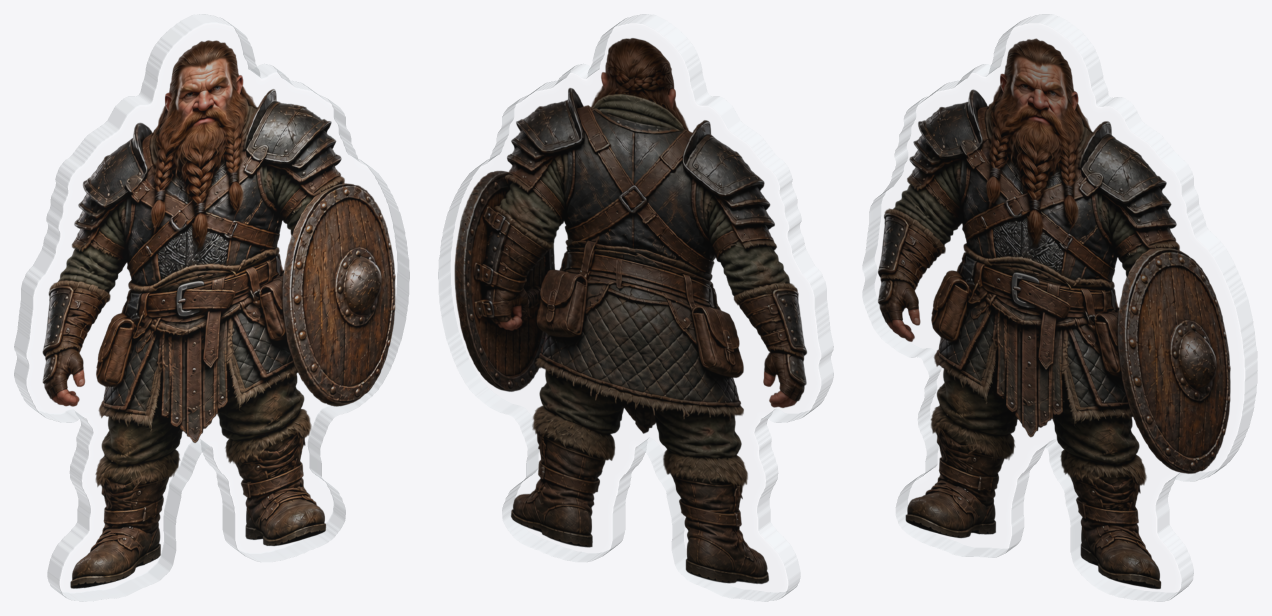
File: brom-shield-only.glb
3 views of the same model, side by side, from view 1: azimuth 30°, elevation 25°; view 2: azimuth 150°, elevation 25°; view 3: azimuth 330°, elevation 25° (orthographic).
Parts seen in each view (by area): view 1: preview_standee; view 2: preview_standee; view 3: preview_standee.
Boxes of the visible parts, x1,y1,x2,y2 form: preview_standee: (14,14,409,601); preview_standee: (438,14,833,601); preview_standee: (862,14,1257,601).
Bounding box in the file's own units: 0.691 × 0.9558 × 0.04.
Materials: 3 (2 with a texture image).
